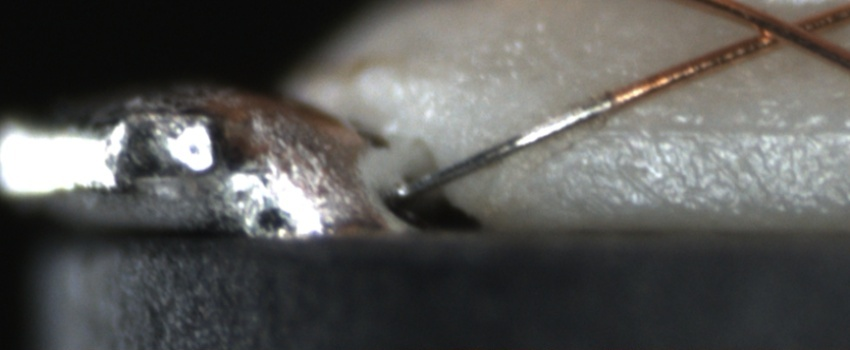CL: (732, 3, 826, 56)
DL: (528, 102, 850, 163)
TS: (388, 94, 612, 202)
